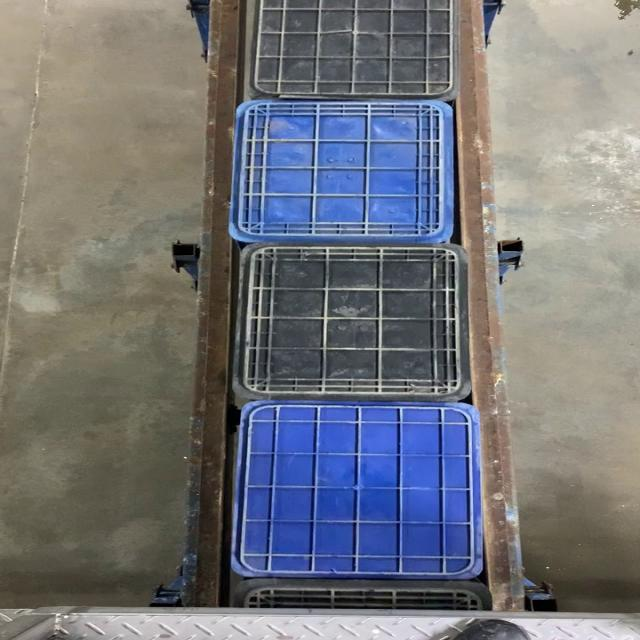Box: (226, 401, 484, 581), (230, 243, 468, 401), (232, 96, 451, 245)
